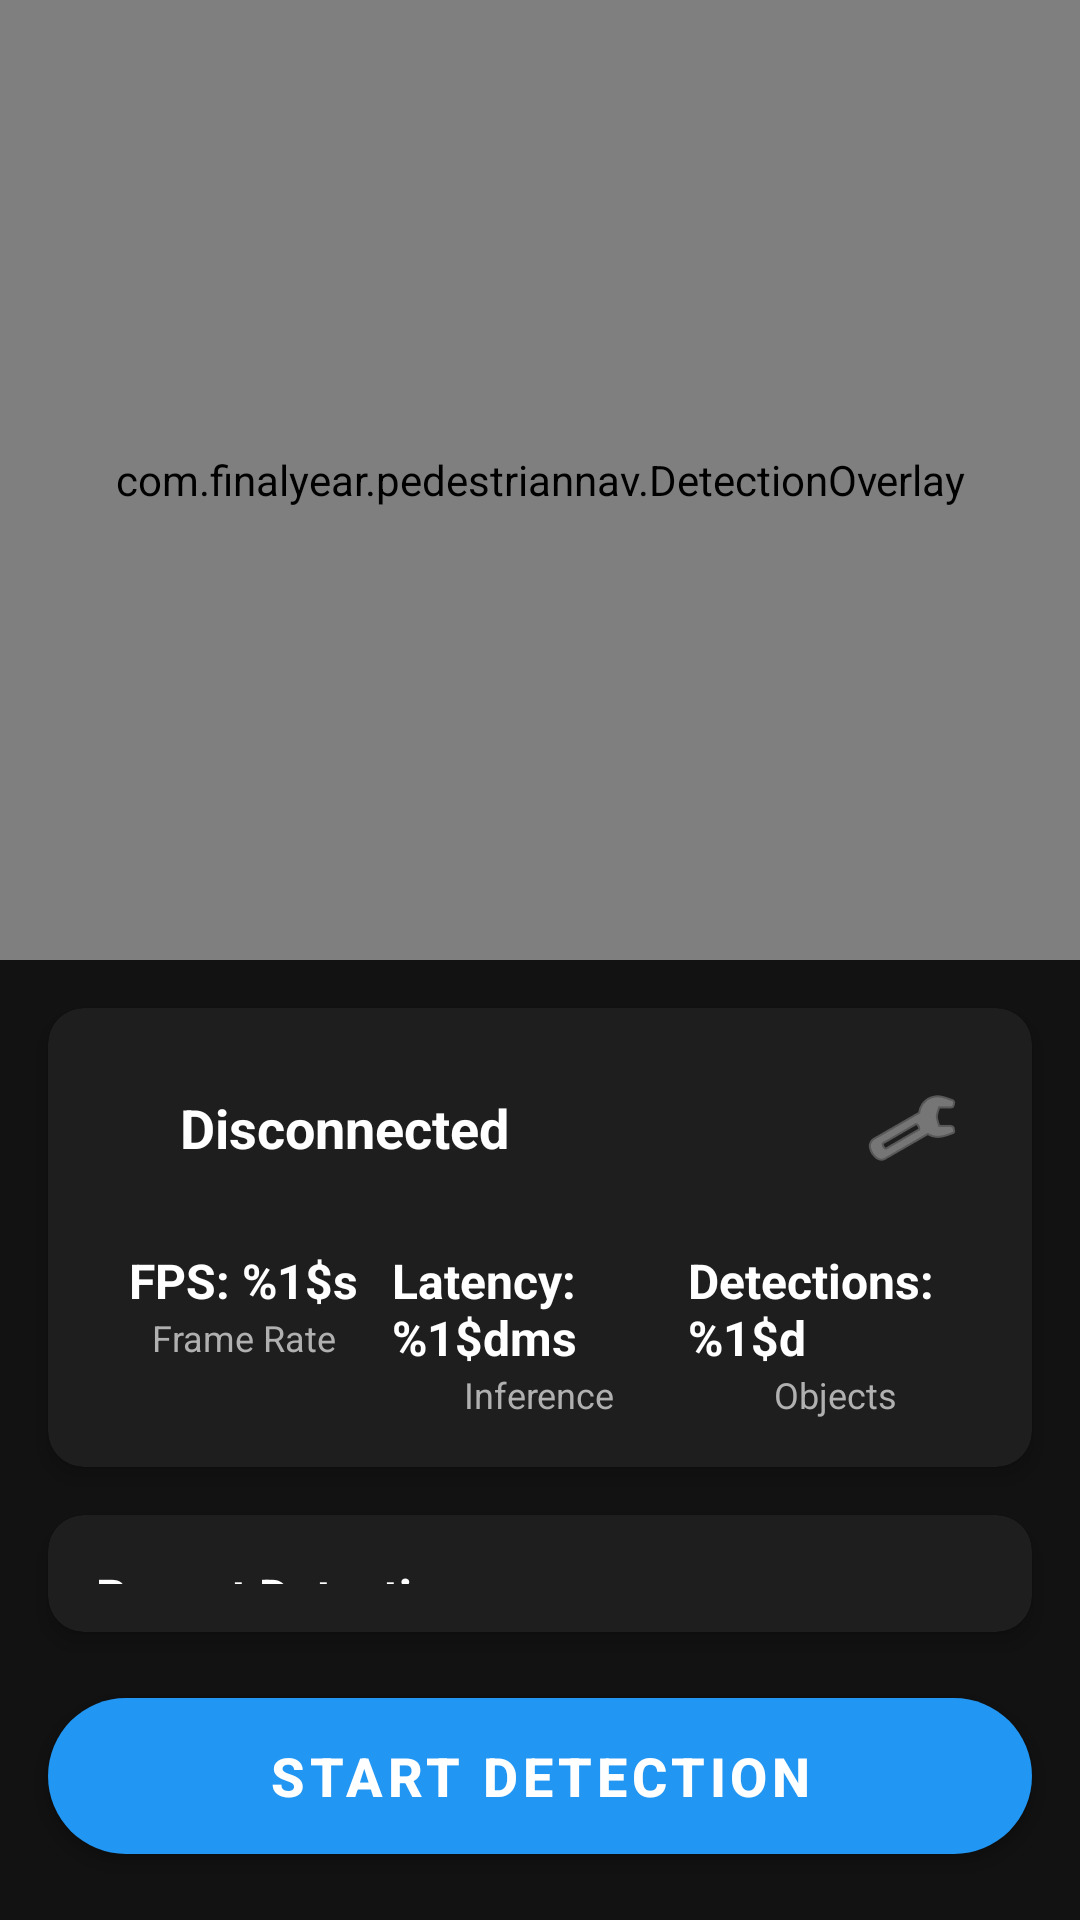

Screen size 1080x1920. Icon name, then its box in pixels as [left=x1, top=y1, right=x2, bottom=y2]:
Settings: [left=869, top=1095, right=955, bottom=1161]
